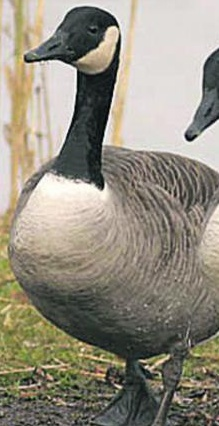goose: (5, 4, 219, 376)
